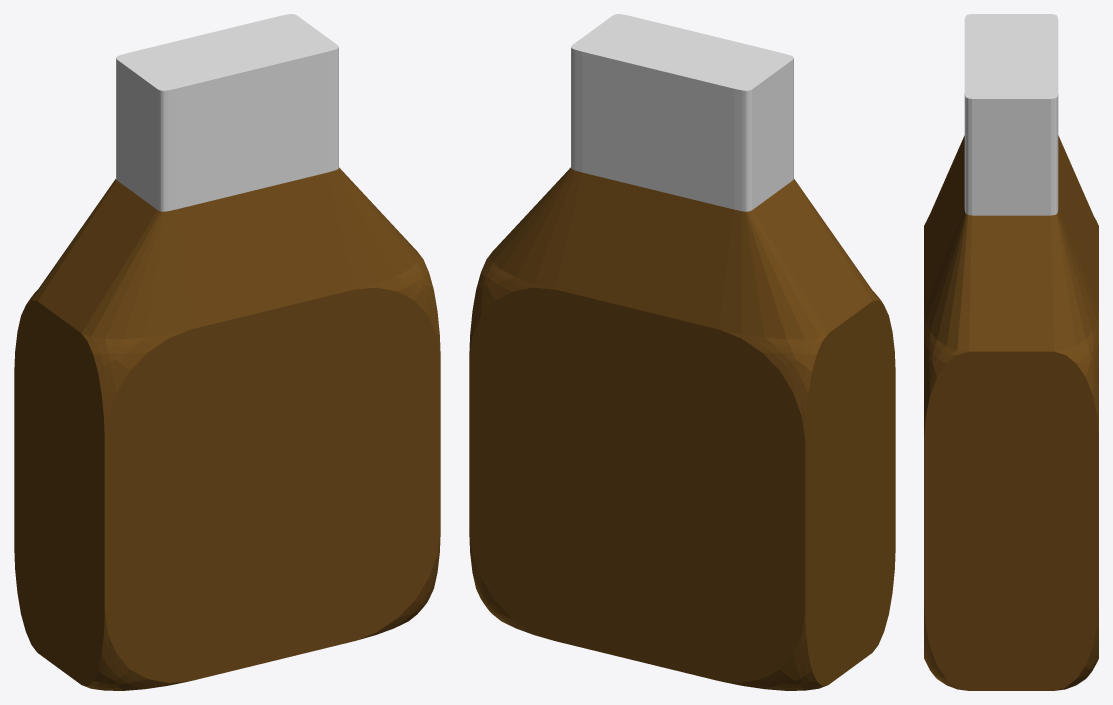
The model's file is item2.fbx.
3 renders of one model, left to right at view 1: azimuth 30°, elevation 25°; view 2: azimuth 150°, elevation 25°; view 3: azimuth 270°, elevation 25°, orthographic. The views are drawn at different scales.
Visible parts, largest first — view 1: Cube.004; view 2: Cube.004; view 3: Cube.004.
Part boxes in pixels (x1,y1,x2,y2): Cube.004: (14,14,440,690); Cube.004: (469,14,895,690); Cube.004: (924,14,1098,690).
Bounding box in the file's own units: 33.5 × 54.84 × 15.65.
